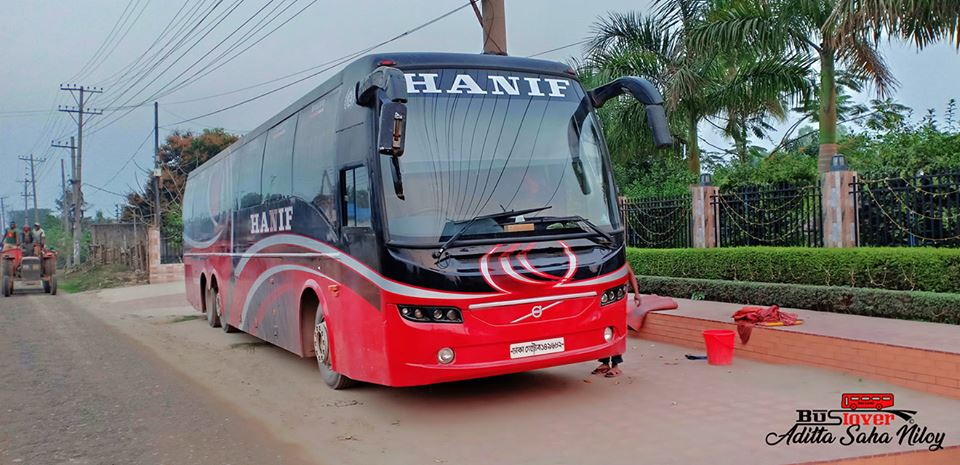bus: (172, 48, 637, 396)
tractor: (1, 226, 60, 291)
